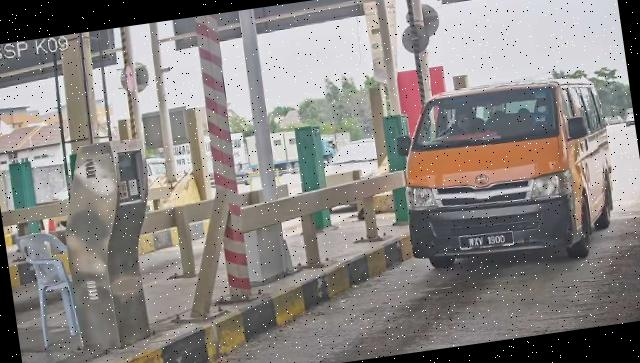License_Plate: (459, 228, 517, 255)
van: (392, 71, 625, 282)
